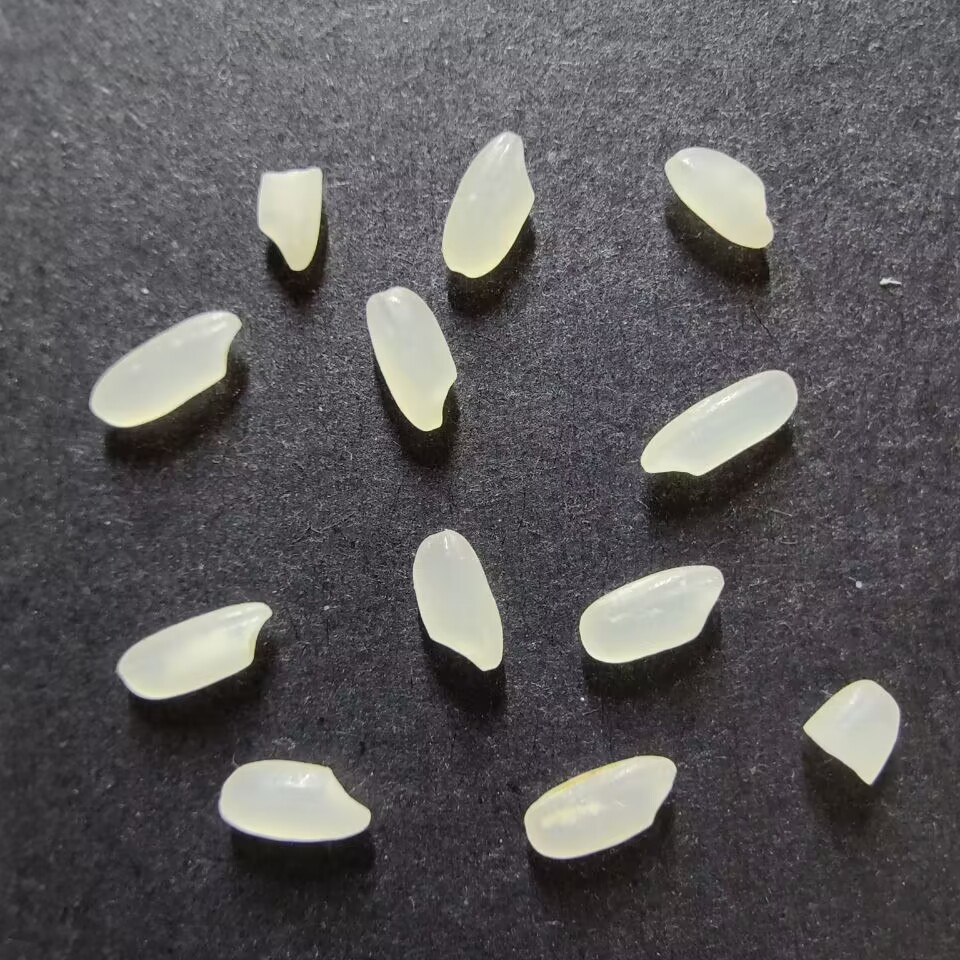broken: (802, 679, 900, 784), (256, 166, 323, 272)
rice: (90, 310, 241, 428), (639, 369, 796, 476), (524, 754, 675, 859), (117, 601, 273, 700), (578, 564, 725, 663), (441, 131, 535, 278), (410, 529, 503, 672), (365, 287, 457, 430), (218, 760, 371, 843), (663, 147, 774, 249)
